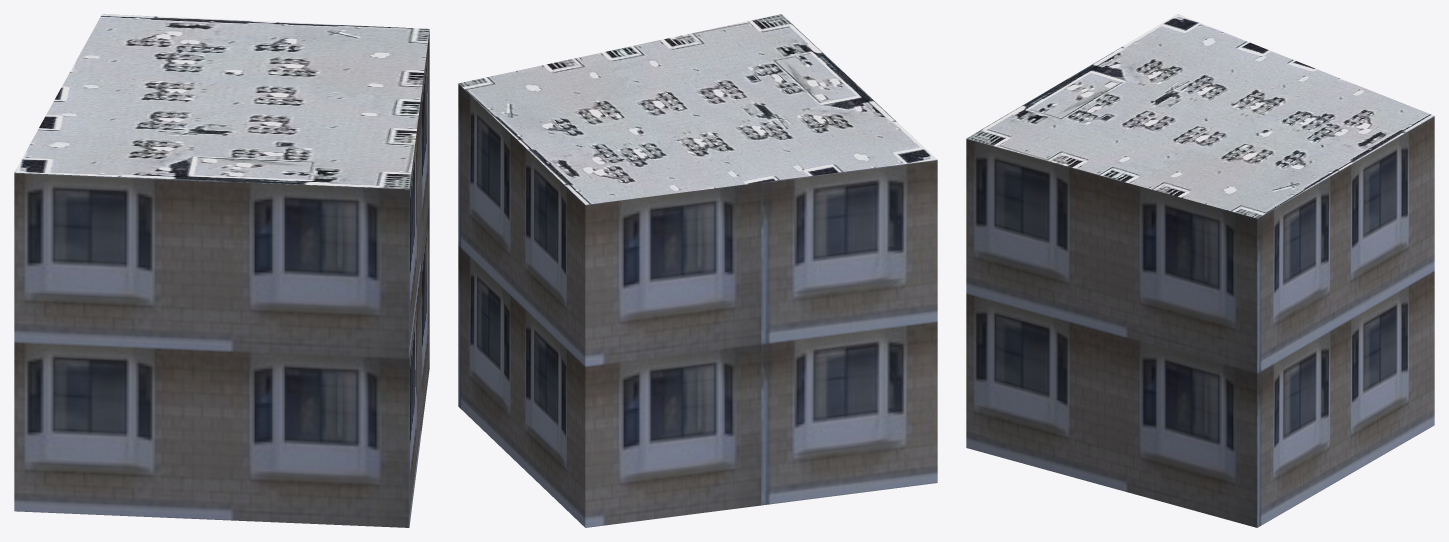
File: ResTex__312.fbx
The picture shows the model from 3 angles, left to right: view 1: azimuth 30°, elevation 25°; view 2: azimuth 150°, elevation 25°; view 3: azimuth 270°, elevation 25°; orthographic projection. The views are drawn at different scales.
Parts seen in each view (by area): view 1: CityEngineMaterial_3_m, CityEngineMaterial_4_m; view 2: CityEngineMaterial_3_m, CityEngineMaterial_4_m; view 3: CityEngineMaterial_3_m, CityEngineMaterial_4_m.
Part boxes in pixels (x1,y1,x2,y2): CityEngineMaterial_3_m: (14, 31, 429, 527); CityEngineMaterial_4_m: (14, 14, 429, 189); CityEngineMaterial_3_m: (458, 84, 937, 527); CityEngineMaterial_4_m: (458, 14, 937, 204); CityEngineMaterial_3_m: (966, 116, 1434, 527); CityEngineMaterial_4_m: (966, 14, 1434, 218).
Bounding box in the file's own units: 8.51 × 6 × 8.24.
2 materials, 2 textured.
